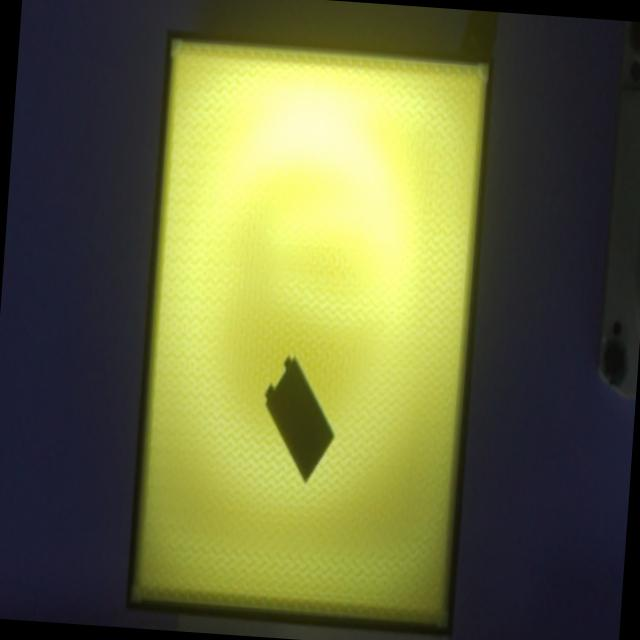bateria: (265, 355, 335, 483)
mesa: (125, 30, 495, 637)
